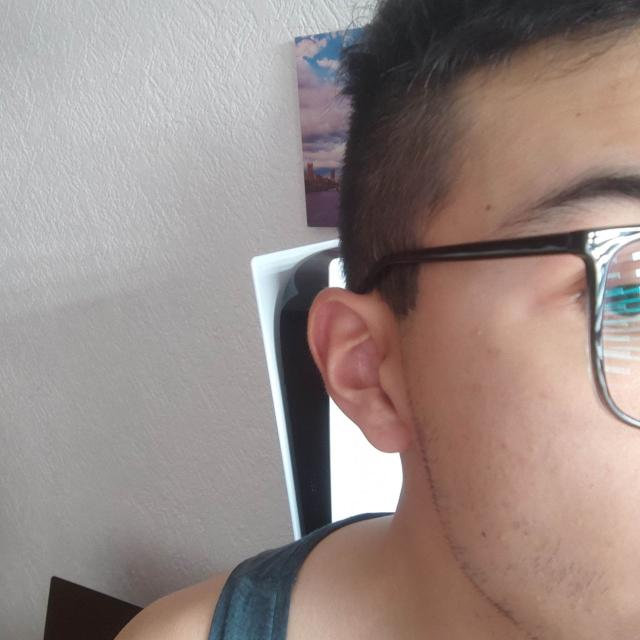ear: (309, 287, 415, 454)
